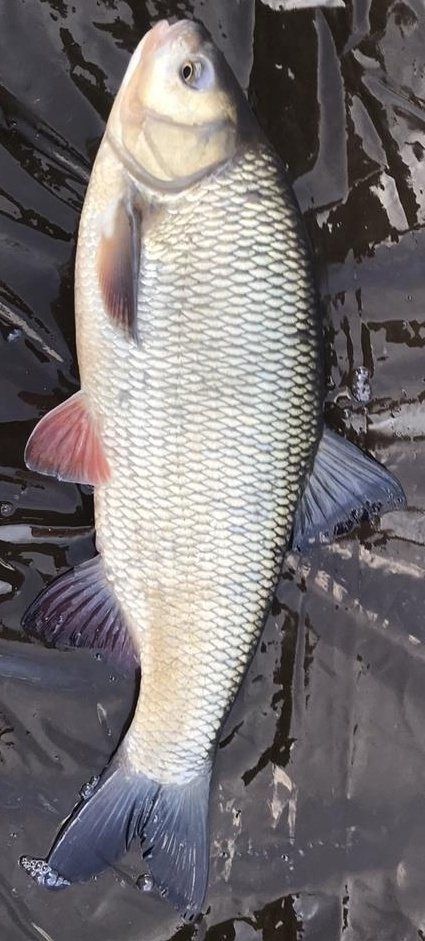Leuciscus idus: (20, 20, 405, 921)
